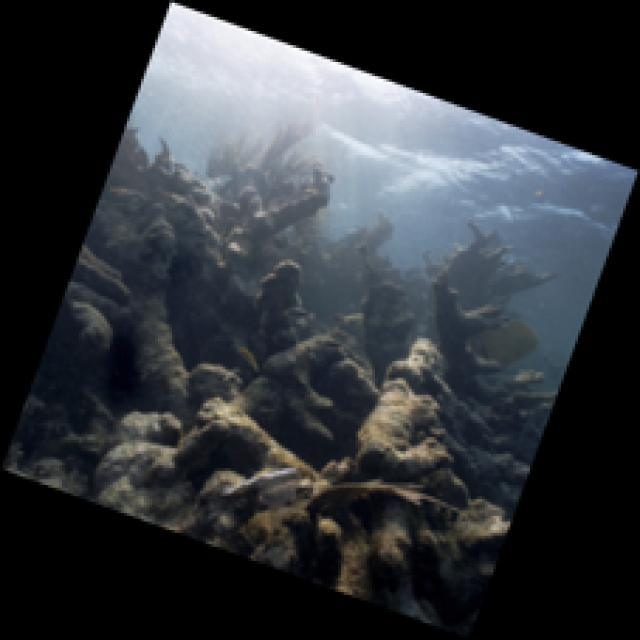Dead Coral: (306, 296, 518, 534), (113, 146, 339, 344), (118, 356, 374, 523)
